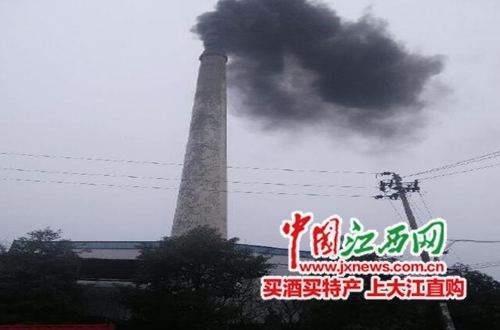dust: (191, 1, 443, 121)
